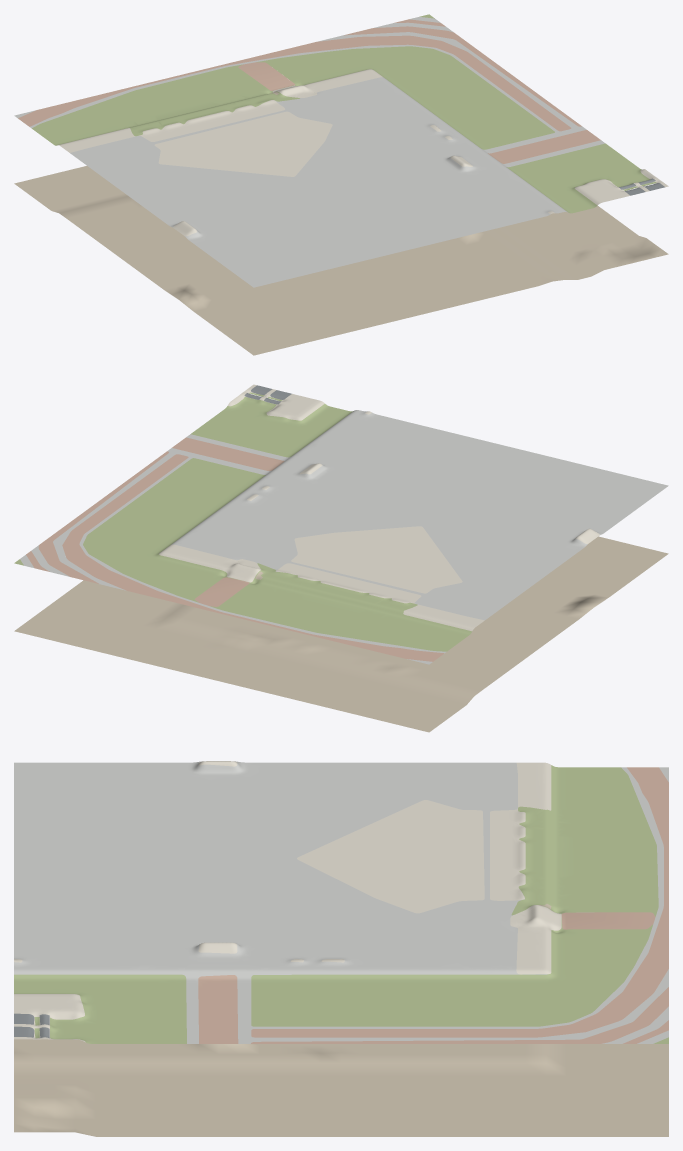
3 views of the same model, one above another, from view 1: azimuth 30°, elevation 25°; view 2: azimuth 150°, elevation 25°; view 3: azimuth 270°, elevation 25° (orthographic). The views are drawn at different scales.
Parts seen in each view (by area): view 1: s_-1_-5__stone_paving, s_-1_-5__soil, s_-1_-5__grass, s_-1_-5__paving, s_-1_-5__brick_paving; view 2: s_-1_-5__stone_paving, s_-1_-5__soil, s_-1_-5__grass, s_-1_-5__paving, s_-1_-5__brick_paving; view 3: s_-1_-5__stone_paving, s_-1_-5__soil, s_-1_-5__grass, s_-1_-5__paving, s_-1_-5__brick_paving, s_-1_-5__asphalt.
Boxes of the visible parts, left/top/right/bottom form: s_-1_-5__stone_paving: left=14, top=17, right=605, bottom=287; s_-1_-5__soil: left=14, top=92, right=668, bottom=355; s_-1_-5__grass: left=32, top=14, right=656, bottom=213; s_-1_-5__paving: left=58, top=69, right=668, bottom=236; s_-1_-5__brick_paving: left=18, top=19, right=600, bottom=163; s_-1_-5__stone_paving: left=20, top=410, right=668, bottom=664; s_-1_-5__soil: left=14, top=487, right=668, bottom=732; s_-1_-5__grass: left=14, top=392, right=471, bottom=651; s_-1_-5__paving: left=159, top=384, right=599, bottom=631; s_-1_-5__brick_paving: left=26, top=437, right=443, bottom=661; s_-1_-5__stone_paving: left=14, top=761, right=668, bottom=1043; s_-1_-5__soil: left=14, top=904, right=668, bottom=1136; s_-1_-5__grass: left=14, top=765, right=668, bottom=1043; s_-1_-5__paving: left=14, top=761, right=561, bottom=1042; s_-1_-5__brick_paving: left=198, top=767, right=668, bottom=1043; s_-1_-5__asphalt: left=14, top=1013, right=49, bottom=1037.
Size of the model in its own units: 128 by 22.66 by 128.
